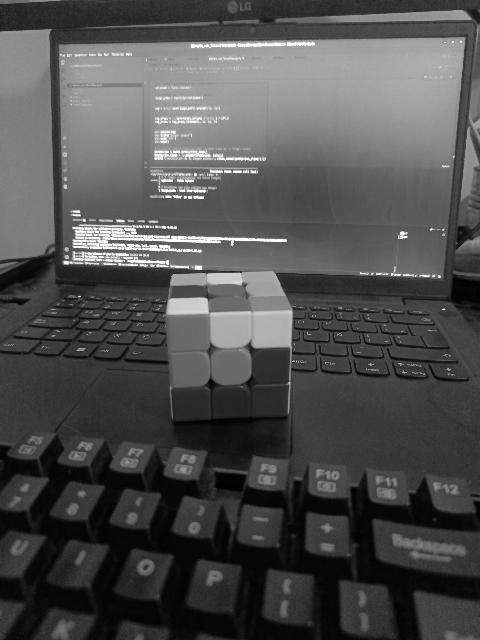rubik: (164, 270, 294, 422)
